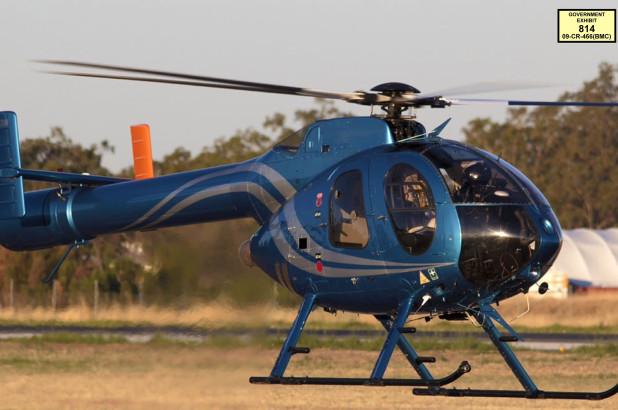Helicopter: (7, 61, 616, 403)
